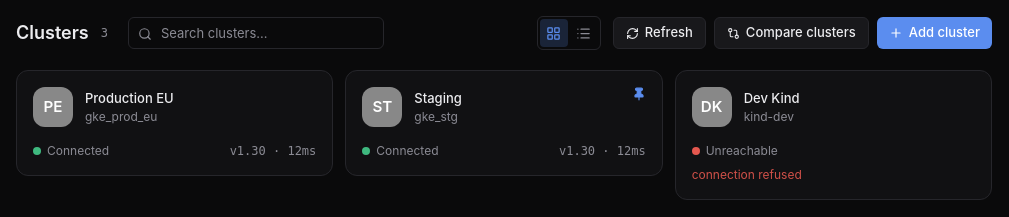
Test: Home search › filters as you type, shows the count, and clears with Escape or the clear button
Expected: the text "Production EU" is shown 3 times, [85,89,174,109]; [414,89,462,109]; [744,89,800,109]
In the field labelled "Search clusters": (256, 33) [128,17,384,49], type "stag"
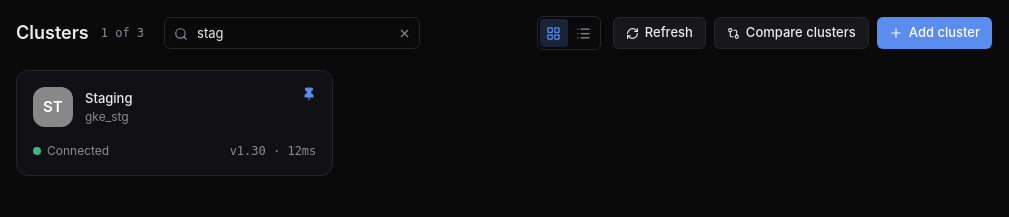
Expected: the text "Staging" is shown, [85,89,132,109]
Expected: the button "Production EU" is gone
Expected: the text "1 of 3" is shown, [101,25,144,41]
Press Escape in the field named "Search clusters", box [164,17,420,49]
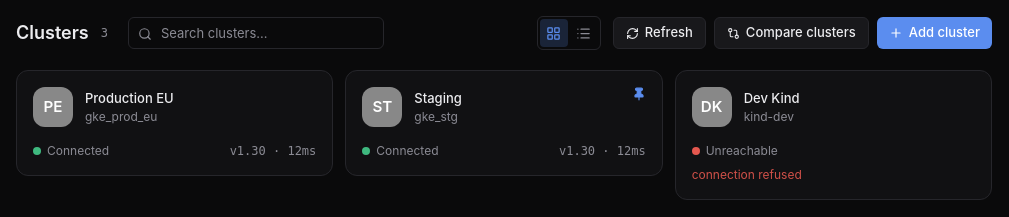
Expected: the text "Production EU" is shown, [85,89,174,109]
In the field labelled "Search clusters": (256, 33) [128,17,384,49], type "kind"
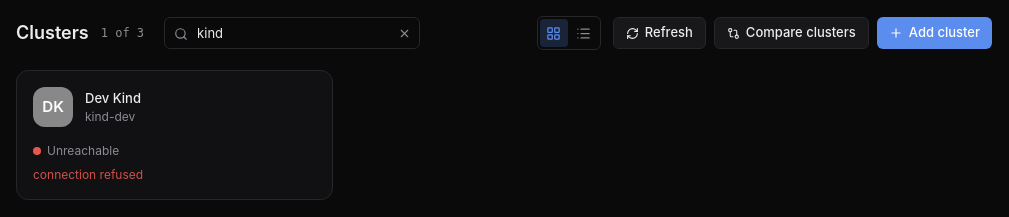
Click the button named "Clear search": (404, 33) [394,23,414,43]
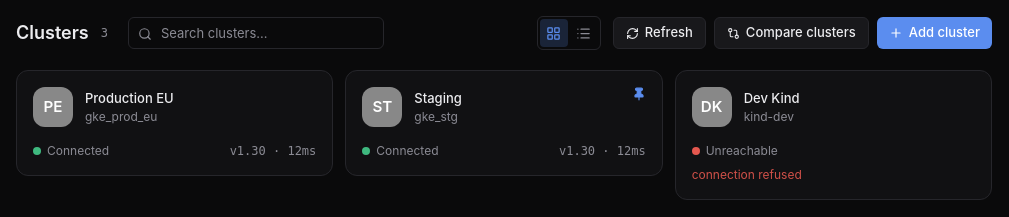
Expected: the text "Production EU" is shown, [85,89,174,109]
